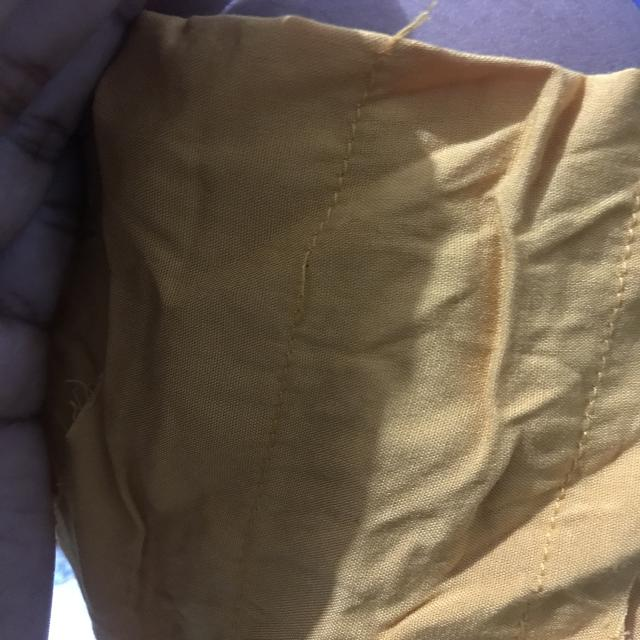good: (332, 123, 370, 199)
skip: (273, 230, 345, 316)
